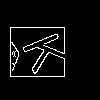K: (21, 27, 78, 75)
